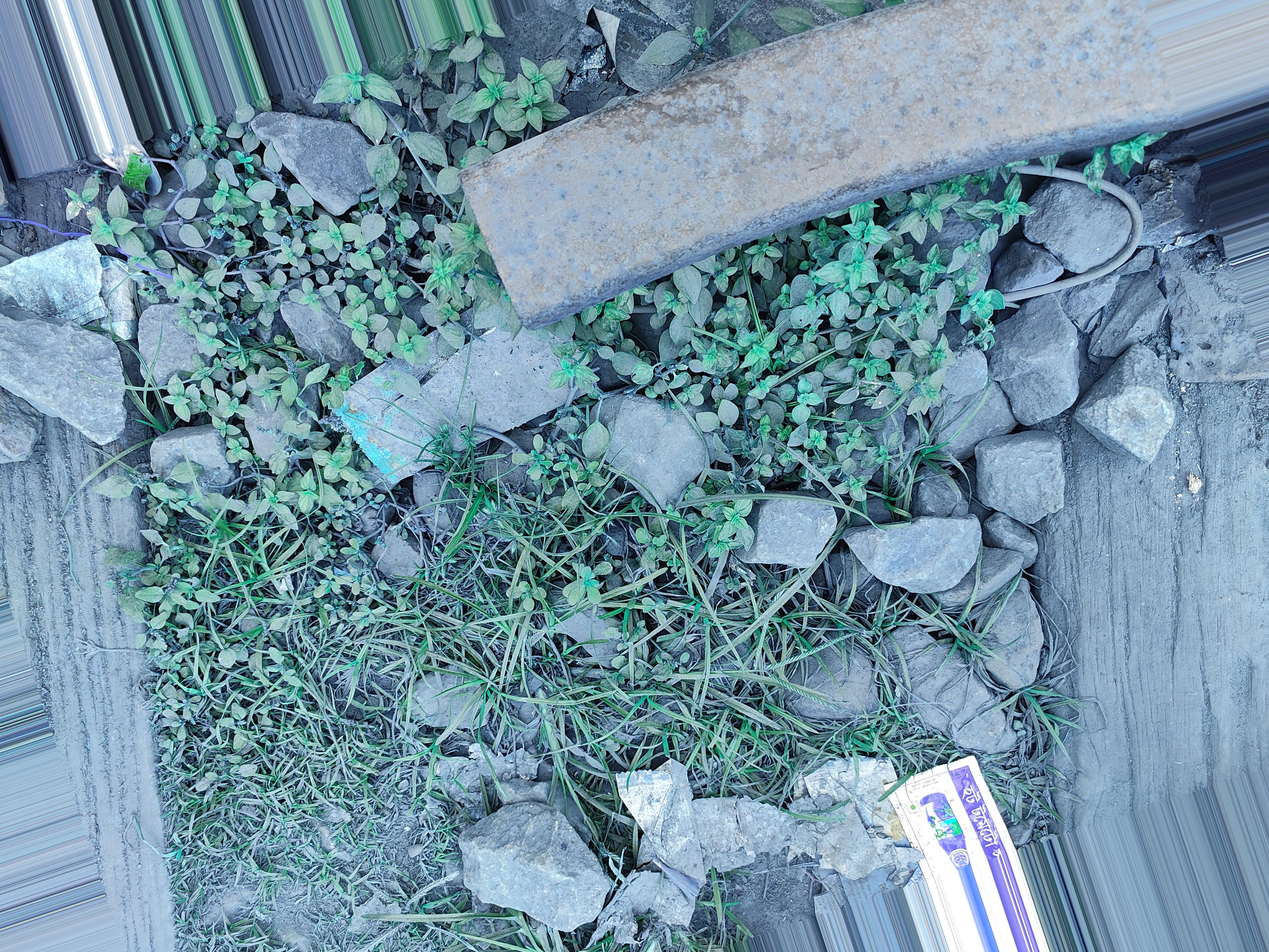tracks_fault: (13, 127, 648, 379)
